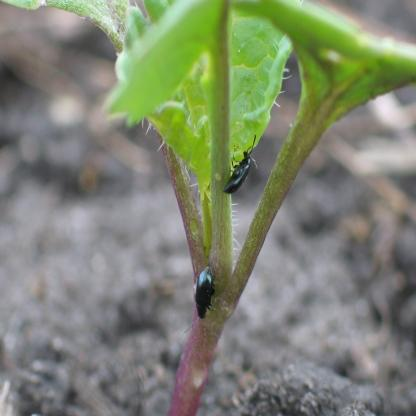beetle: (225, 139, 258, 201), (193, 255, 216, 320)
